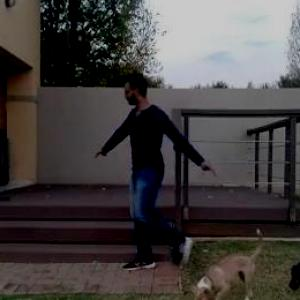land: (96, 71, 231, 268)
